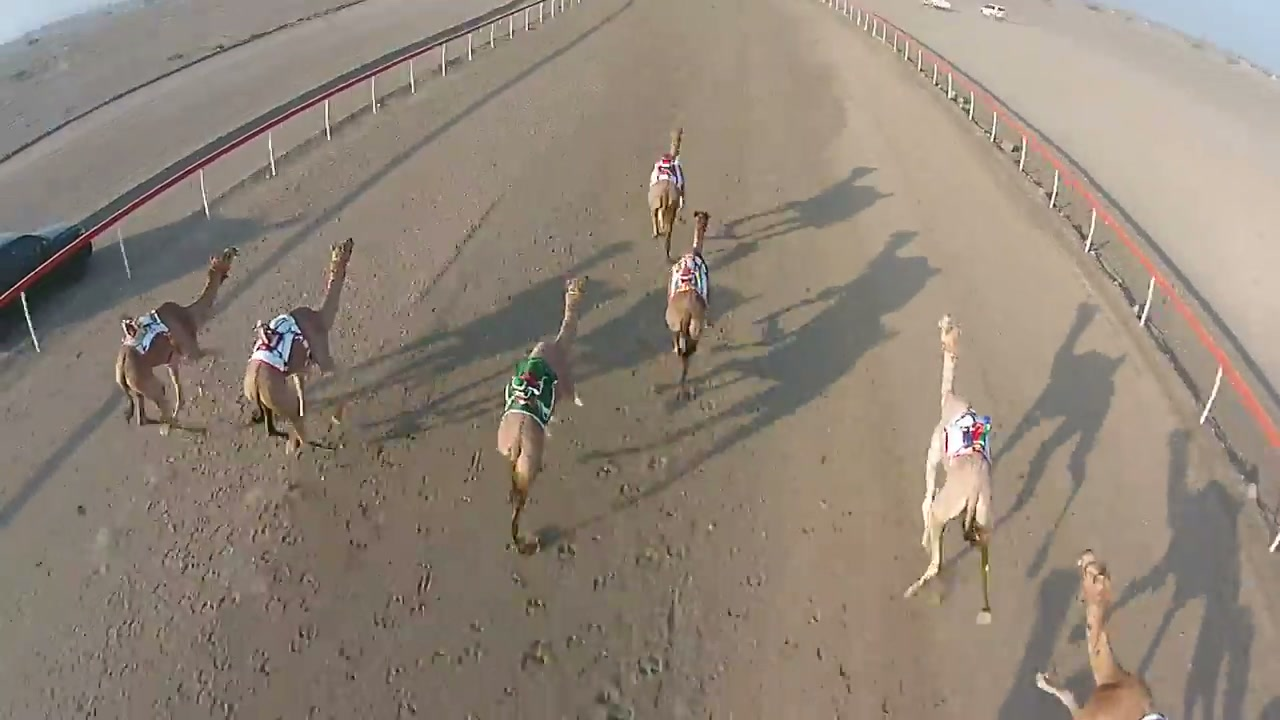animal_footprint: (389, 384, 850, 711), (64, 418, 417, 719)
